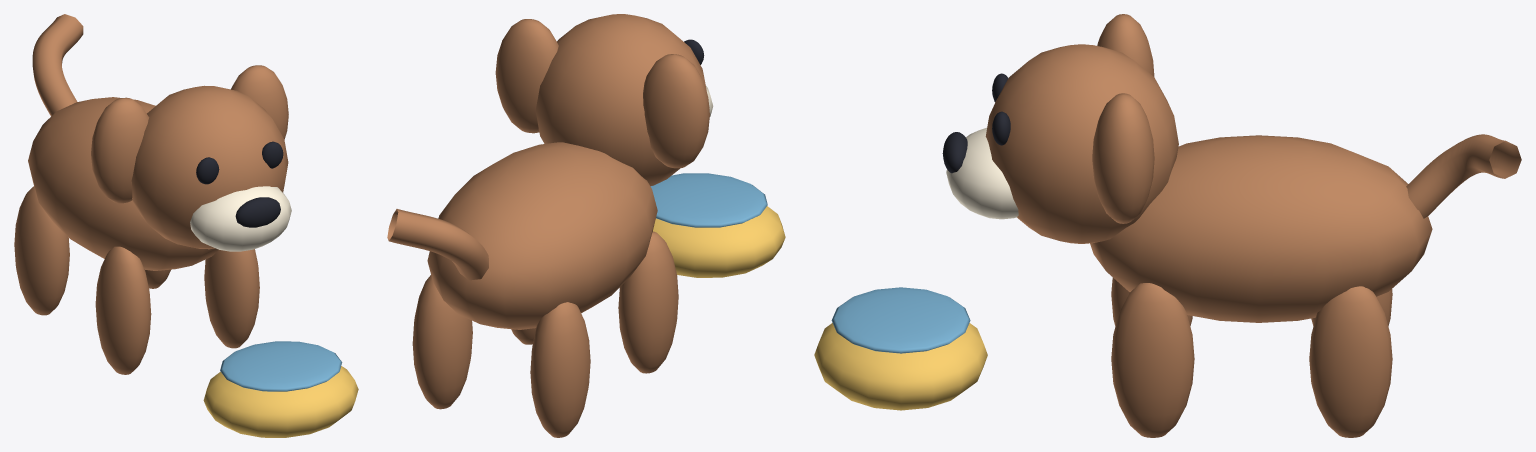
File: dog-drink.glb
3 renders of one model, left to right at view 1: azimuth 30°, elevation 25°; view 2: azimuth 150°, elevation 25°; view 3: azimuth 270°, elevation 25°, orthographic. The views are drawn at different scales.
Visible parts, largest first — view 1: animal head, round animal body, dog bowl, little paw, little paw.001, water, little paw.002, animal ear, muzzle, tail, animal ear.001, nose (+3 smaller); view 2: round animal body, animal head, little paw.001, little paw, animal ear, dog bowl, little paw.003, water, animal ear.001, tail; view 3: round animal body, animal head, little paw.002, little paw.003, dog bowl, water, animal ear.001, tail, muzzle, animal ear, nose.
Part boxes in pixels (x1,y1,x2,y2): animal head: (131,85,288,249); round animal body: (28,97,218,270); dog bowl: (203,366,358,437); little paw: (95,246,151,374); little paw.001: (14,186,69,315); water: (220,341,342,391); little paw.002: (204,249,259,348); animal ear: (91,97,149,203); muzzle: (190,186,291,251); tail: (32,14,83,116); animal ear.001: (231,65,288,139); nose: (235,197,280,227); round animal body: (427,142,657,329); animal head: (535,14,709,186); little paw.001: (530,302,590,437); little paw: (618,231,678,373); animal ear: (643,54,709,168); dog bowl: (653,206,785,277); little paw.003: (412,275,472,409); water: (650,173,767,227); animal ear.001: (495,19,558,133); tail: (387,209,488,280); round animal body: (1090,135,1432,322); animal head: (985,44,1178,243); little paw.002: (1111,283,1194,437); little paw.003: (1309,286,1392,437); dog bowl: (814,323,987,410); water: (831,287,970,353); animal ear.001: (1092,93,1154,223); tail: (1406,134,1521,218); muzzle: (946,127,1018,219); animal ear: (1097,14,1154,76); nose: (942,132,967,173).
Bounding box in the file's own units: 0.78 × 1.12 × 2.04.
